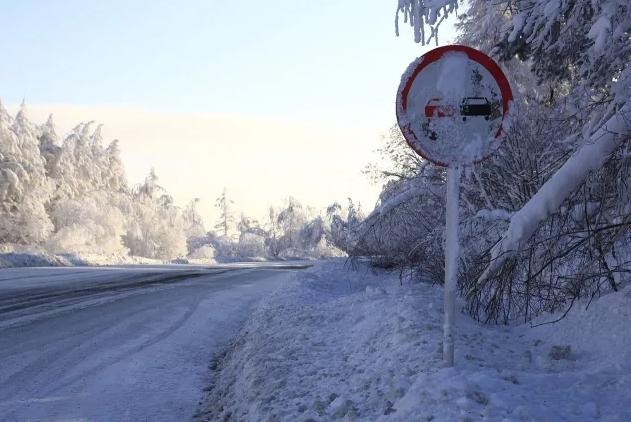obstructed_road_sign: (396, 46, 514, 165)
